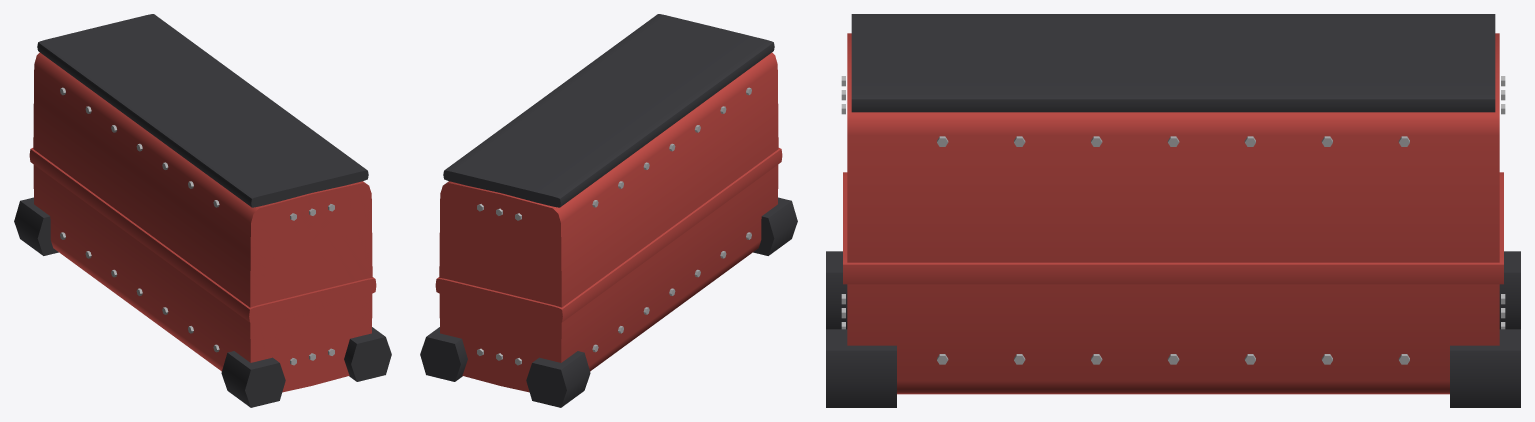
File: alu_pannier.glb
3 views of the same model, side by side, from view 1: azimuth 30°, elevation 25°; view 2: azimuth 150°, elevation 25°; view 3: azimuth 270°, elevation 25° (orthographic). The views are drawn at different scales.
Parts seen in each view (by area): view 1: lod0; view 2: lod0; view 3: lod0.
Boxes of the visible parts, x1,y1,x2,y2 form: lod0: (14,14,391,407); lod0: (420,14,797,407); lod0: (826,14,1520,407).
Size of what is drawn, in the model's own units: 0.18 by 0.2357 by 0.49.
